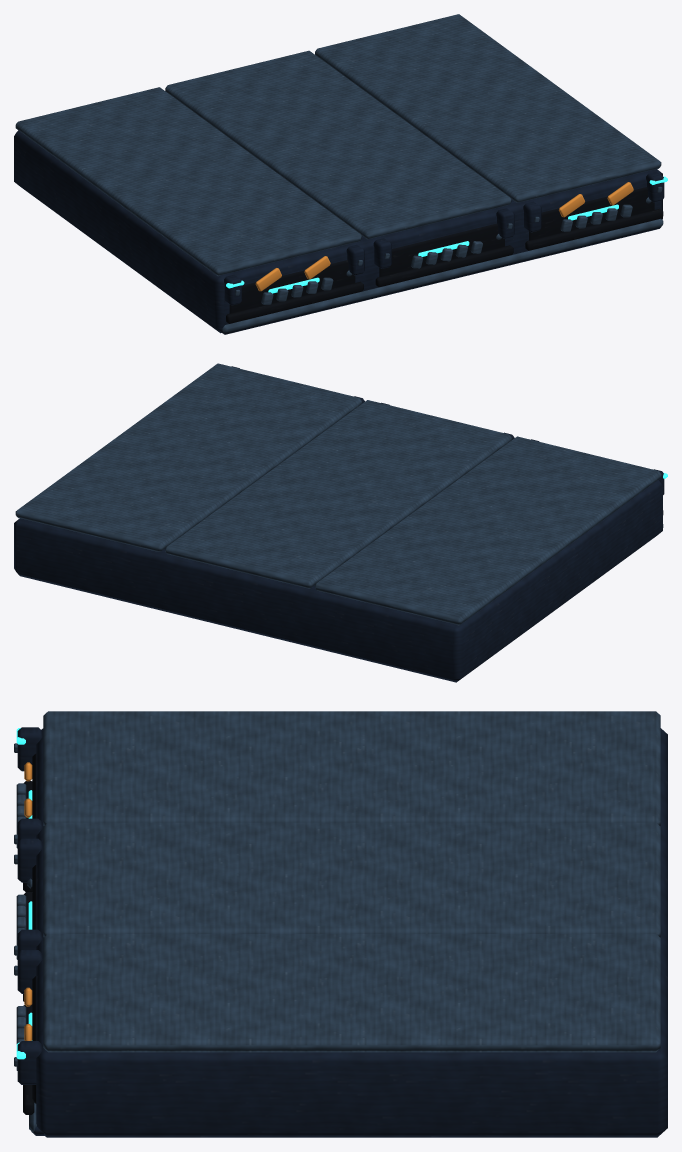
File: transfer_bridge.glb
3 views of the same model, one above another, from view 1: azimuth 30°, elevation 25°; view 2: azimuth 150°, elevation 25°; view 3: azimuth 270°, elevation 25° (orthographic). The views are drawn at different scales.
Visible parts, largest first — view 1: transfer_bridge - Brushed gunmetal, transfer_bridge - Blue steel, transfer_bridge - Recessed iron, transfer_bridge - Safety enamel, transfer_bridge - Cool perimeter LEDs; view 2: transfer_bridge - Brushed gunmetal, transfer_bridge - Blue steel; view 3: transfer_bridge - Brushed gunmetal, transfer_bridge - Blue steel, transfer_bridge - Recessed iron.
Part boxes in pixels (x1,y1,x2,y2): transfer_bridge - Brushed gunmetal: [15, 14, 663, 332]; transfer_bridge - Blue steel: [14, 130, 664, 334]; transfer_bridge - Recessed iron: [226, 187, 663, 323]; transfer_bridge - Safety enamel: [255, 182, 633, 291]; transfer_bridge - Cool perimeter LEDs: [226, 176, 667, 293]; transfer_bridge - Brushed gunmetal: [15, 363, 663, 625]; transfer_bridge - Blue steel: [14, 366, 664, 682]; transfer_bridge - Brushed gunmetal: [14, 711, 660, 1132]; transfer_bridge - Blue steel: [17, 727, 667, 1137]; transfer_bridge - Recessed iron: [23, 754, 36, 1114].
Bounding box in the file's own units: 5.99 × 0.84 × 4.97.
Materials: 5 (3 with a texture image).
